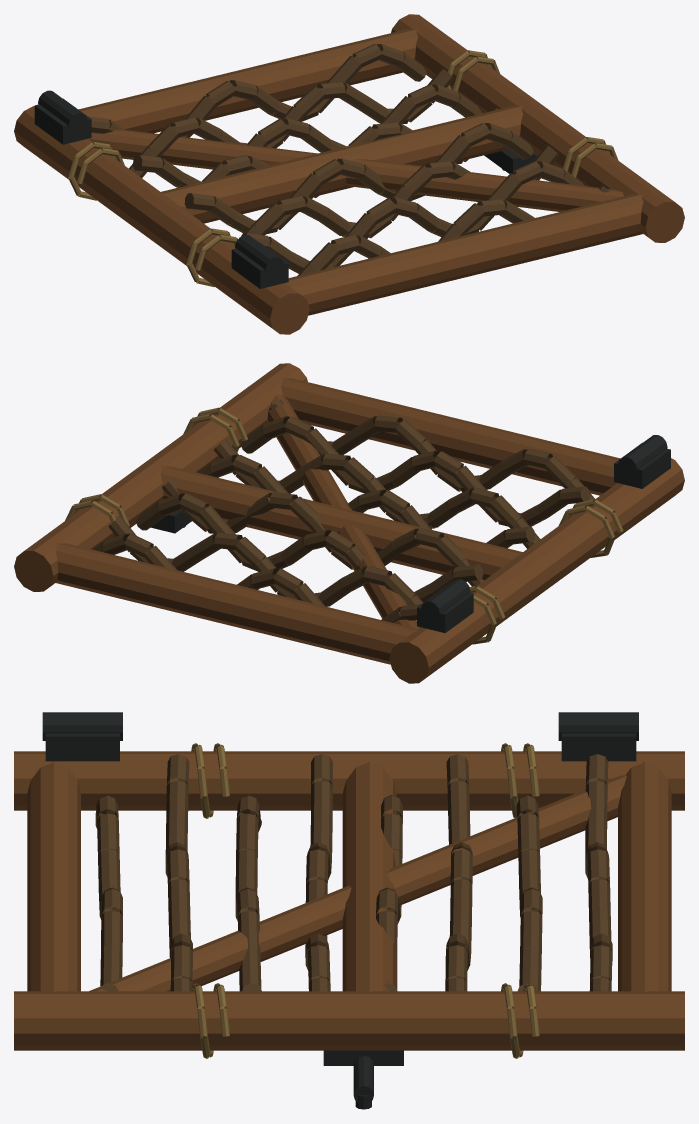
File: SM_Wattle_GateLeaf1m_1348_LOD0.obj
3 views of the same model, one above another, from view 1: azimuth 30°, elevation 25°; view 2: azimuth 150°, elevation 25°; view 3: azimuth 270°, elevation 25° (orthographic). The views are drawn at different scales.
Parts seen in each view (by area): view 1: gate_horizontal_rails, handwoven_gate_laths, gate_side_post, cross_brace, hand_lashed_binding, gate_side_post_cut, hinge_iron_eye, pivot_loop, wrought_iron_latch_base, pivot_loop_cut; view 2: gate_horizontal_rails, handwoven_gate_laths, gate_side_post, cross_brace, hand_lashed_binding, gate_side_post_cut, hinge_iron_eye, pivot_loop, pivot_loop_cut, wrought_iron_latch_base; view 3: gate_side_post, handwoven_gate_laths, gate_horizontal_rails, cross_brace, hand_lashed_binding, hinge_iron_eye, pivot_loop, wrought_iron_latch_base, manual_latch_bar.
Boxes of the visible parts, left/top/right/bottom form: gate_horizontal_rails: left=78, top=29, right=643, bottom=315; handwoven_gate_laths: left=88, top=44, right=609, bottom=275; gate_side_post: left=14, top=14, right=674, bottom=331; cross_brace: left=88, top=128, right=623, bottom=211; hand_lashed_binding: left=68, top=50, right=618, bottom=287; gate_side_post_cut: left=270, top=202, right=684, bottom=334; hinge_iron_eye: left=34, top=98, right=288, bottom=288; pivot_loop: left=38, top=90, right=279, bottom=273; wrought_iron_latch_base: left=484, top=149, right=537, bottom=173; pivot_loop_cut: left=68, top=113, right=284, bottom=277; gate_horizontal_rails: left=55, top=378, right=620, bottom=664; handwoven_gate_laths: left=93, top=399, right=594, bottom=622; gate_side_post: left=24, top=363, right=684, bottom=680; cross_brace: left=267, top=394, right=419, bottom=628; hand_lashed_binding: left=65, top=407, right=623, bottom=644; gate_side_post_cut: left=14, top=551, right=428, bottom=683; hinge_iron_eye: left=417, top=442, right=670, bottom=633; pivot_loop: left=426, top=435, right=667, bottom=618; pivot_loop_cut: left=421, top=457, right=636, bottom=621; wrought_iron_latch_base: left=151, top=510, right=191, bottom=533; gate_side_post: left=14, top=751, right=684, bottom=1050; handwoven_gate_laths: left=95, top=754, right=612, bottom=991; gate_horizontal_rails: left=27, top=761, right=671, bottom=991; cross_brace: left=89, top=775, right=626, bottom=991; hand_lashed_binding: left=191, top=743, right=539, bottom=1058; hinge_iron_eye: left=45, top=733, right=636, bottom=761; pivot_loop: left=42, top=712, right=638, bottom=740; wrought_iron_latch_base: left=323, top=1050, right=403, bottom=1065; manual_latch_bar: left=353, top=1055, right=373, bottom=1093.
Bounding box in the file's own units: 1.2 × 0.23 × 1.17.
